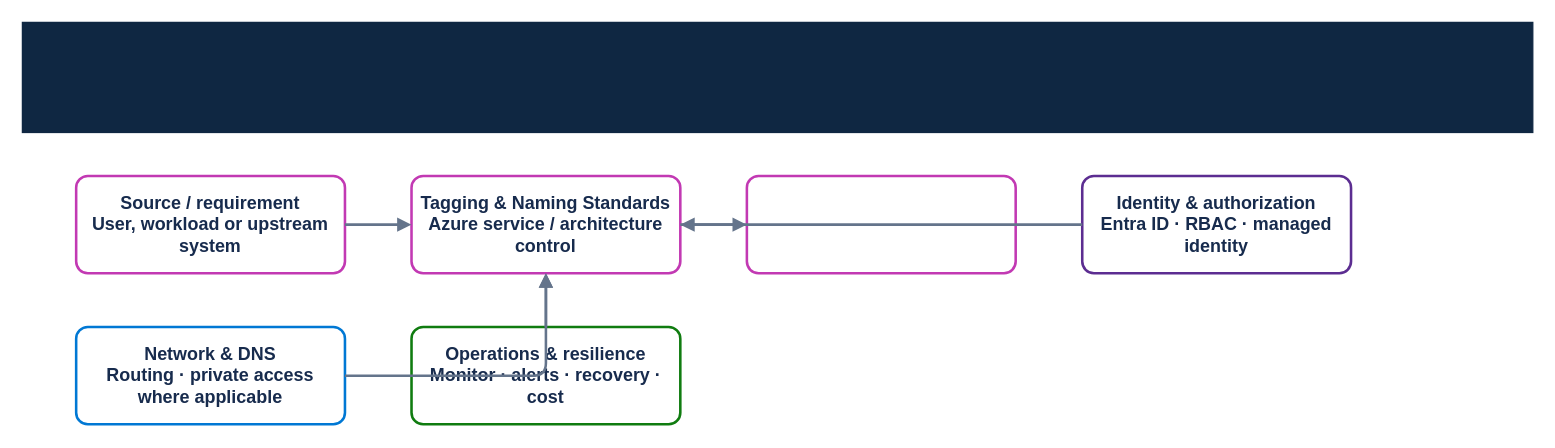
Image size: 1555x448. Some labels were removed from this diagram. Each missing label, with the centre of its shape:
Tagging & Naming Standards: point (777, 76)
Workload / consumer Application, data or operational outcome: point (880, 224)
